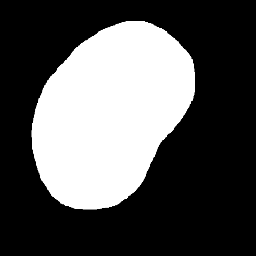mass: (33, 21, 197, 214)
